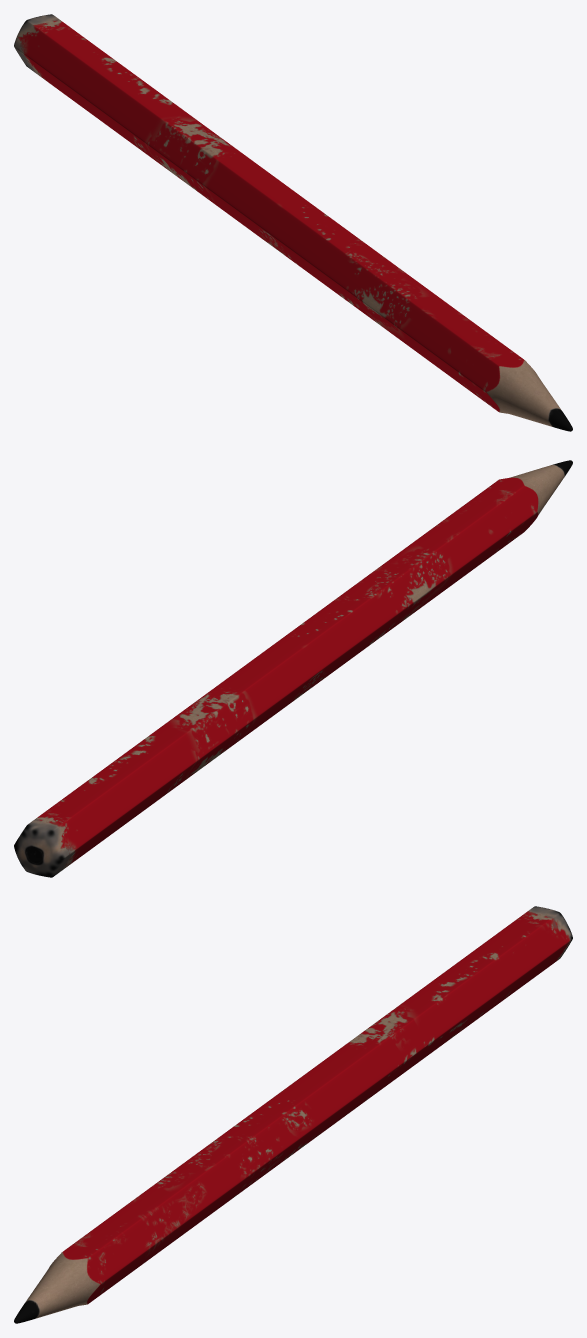
File: blyant.glb
The picture shows the model from 3 angles, top to bottom: view 1: azimuth 30°, elevation 25°; view 2: azimuth 150°, elevation 25°; view 3: azimuth 330°, elevation 25°; orthographic projection.
Parts seen in each view (by area): view 1: Pencil; view 2: Pencil; view 3: Pencil.
Boxes of the visible parts, left/top/right/bottom form: Pencil: left=14, top=14, right=572, bottom=431; Pencil: left=14, top=460, right=572, bottom=877; Pencil: left=14, top=906, right=572, bottom=1323.
Size of the model in its own units: 0.1009 by 0.0886 by 1.84.
1 material, 1 textured.
